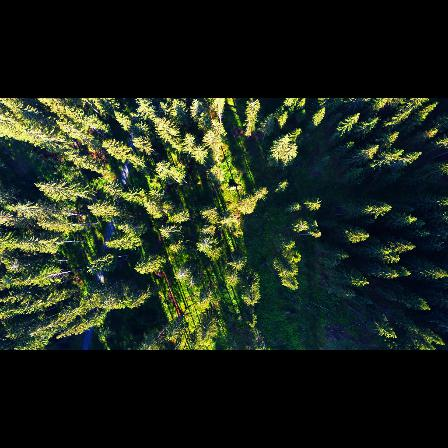Sick: (222, 272, 241, 287), (172, 269, 190, 284)
